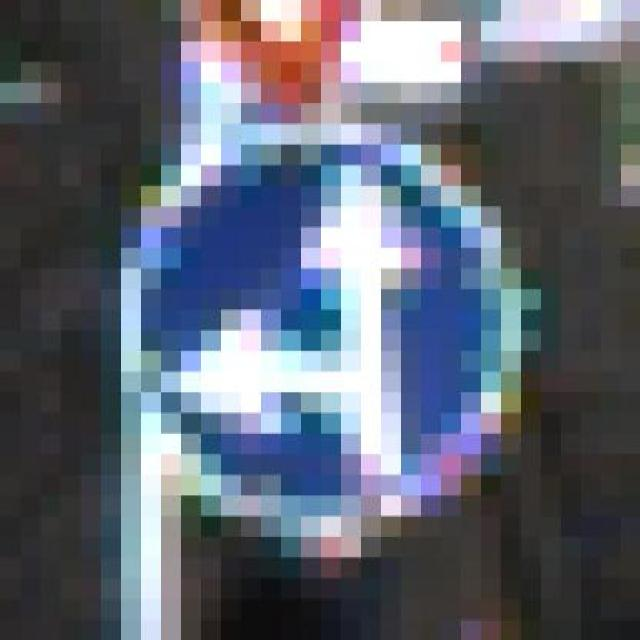Go straight or turn left: (100, 124, 540, 558)
